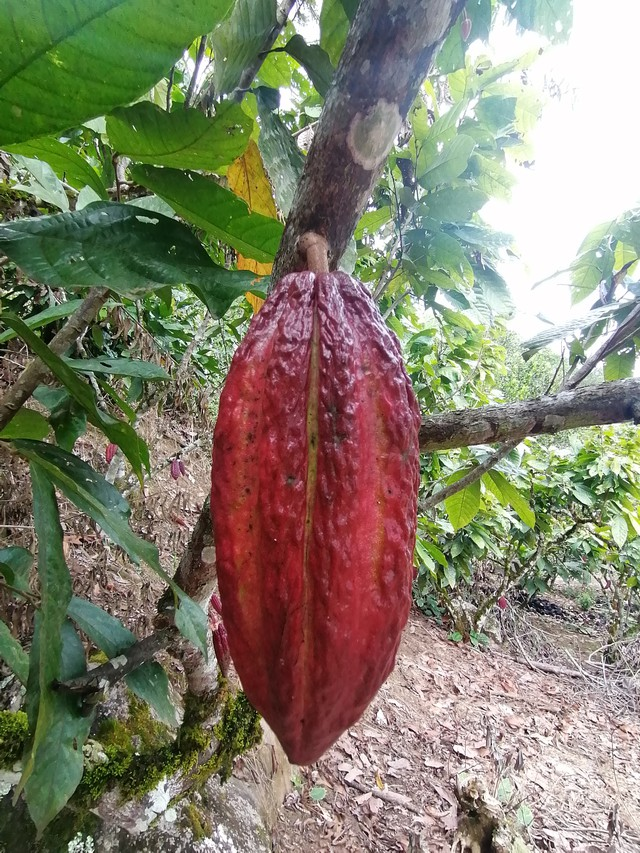Health: (198, 261, 433, 775)
